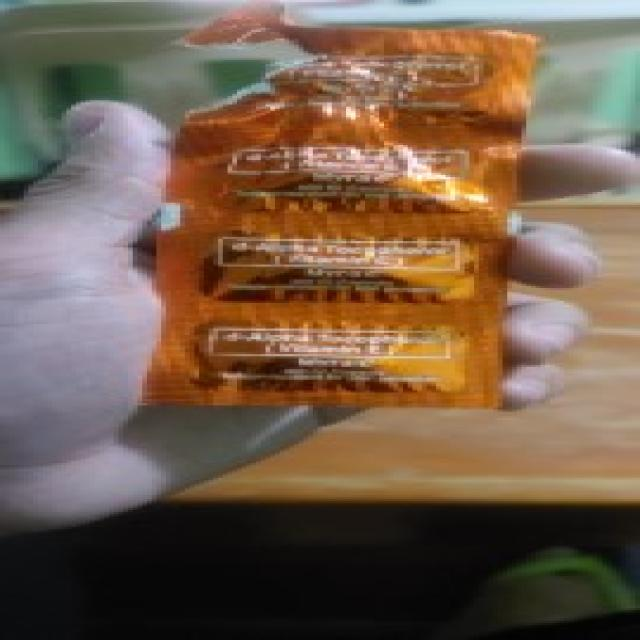Cacat: (93, 0, 600, 444)
Kemasan: (145, 3, 550, 154)
